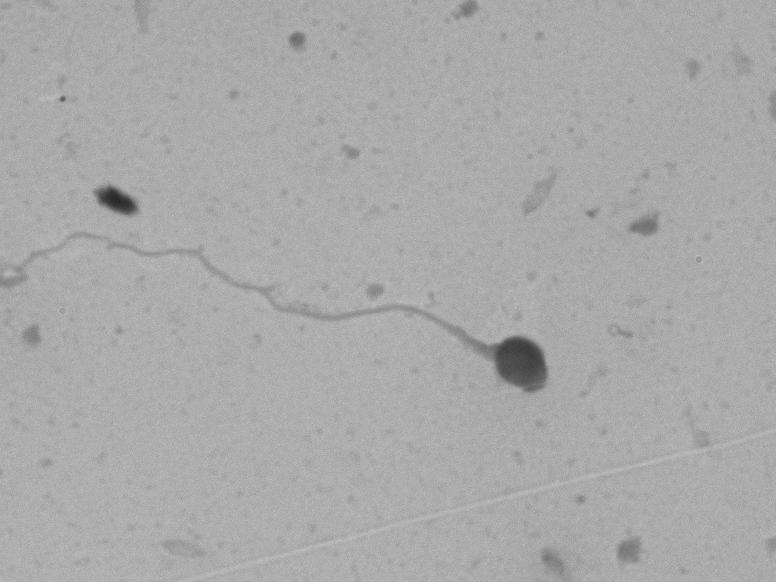Abnormal: (10, 222, 583, 434)
